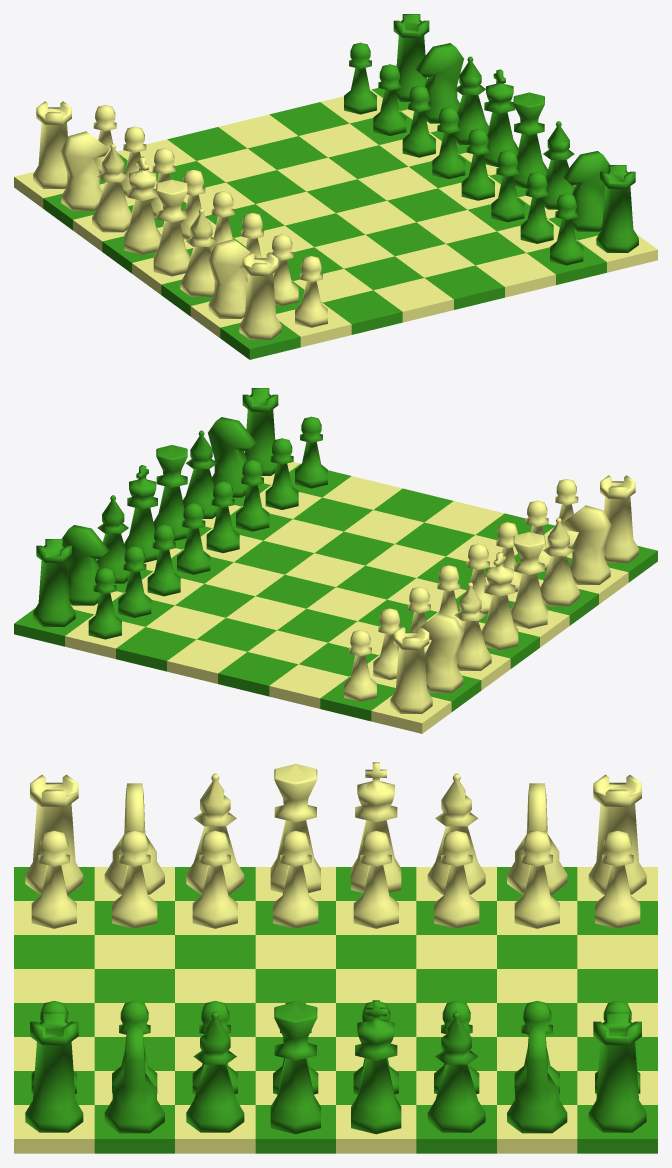
The model's file is chess.dae.
3 views of the same model, one above another, from view 1: azimuth 30°, elevation 25°; view 2: azimuth 150°, elevation 25°; view 3: azimuth 270°, elevation 25° (orthographic). The views are drawn at different scales.
Parts seen in each view (by area): view 1: w_Ra, b_Ra, b_Ng, b_Q, b_Nb, w_Nb, b_Rh, b_K, w_Ng, w_Q, b_Bf, w_Rh (+70 smaller); view 2: w_Rh, b_Rh, b_Nb, b_Q, b_Ng, w_Ng, b_Ra, b_K, w_Nb, w_Q, b_Bc, w_Ra (+70 smaller); view 3: w_Rh, w_Ra, w_Q, w_K, w_Bc, w_Bf, w_Ng, w_Nb, b_Ra, b_Rh, b_Q, b_K (+81 smaller).
Boxes of the visible parts, bbox=[...] form: w_Ra: bbox=[596, 165, 638, 252]; b_Ra: bbox=[239, 252, 281, 339]; b_Ng: bbox=[60, 131, 109, 210]; b_Q: bbox=[153, 179, 190, 276]; b_Nb: bbox=[208, 239, 256, 318]; w_Nb: bbox=[562, 151, 609, 231]; b_Rh: bbox=[33, 101, 71, 188]; b_K: bbox=[124, 156, 160, 254]; w_Ng: bbox=[415, 43, 463, 123]; w_Q: bbox=[513, 92, 547, 188]; b_Bf: bbox=[92, 143, 131, 232]; w_Rh: bbox=[393, 14, 429, 101]; w_Rh: bbox=[33, 539, 75, 626]; b_Rh: bbox=[390, 626, 432, 713]; b_Nb: bbox=[562, 505, 611, 584]; b_Q: bbox=[511, 532, 547, 628]; b_Ng: bbox=[415, 613, 463, 692]; w_Ng: bbox=[62, 525, 109, 605]; b_Ra: bbox=[600, 475, 638, 562]; b_K: bbox=[481, 552, 518, 650]; w_Nb: bbox=[208, 417, 256, 497]; w_Q: bbox=[153, 445, 188, 541]; b_Bc: bbox=[540, 517, 579, 606]; w_Ra: bbox=[242, 388, 278, 475]; w_Rh: bbox=[588, 1012, 646, 1132]; w_Ra: bbox=[25, 1012, 83, 1132]; w_Q: bbox=[270, 1002, 320, 1134]; w_K: bbox=[351, 1000, 401, 1134]; w_Bc: bbox=[186, 1012, 244, 1132]; w_Bf: bbox=[427, 1012, 485, 1132]; w_Ng: bbox=[507, 1025, 567, 1133]; w_Nb: bbox=[104, 1025, 164, 1133]; b_Ra: bbox=[25, 774, 83, 894]; b_Rh: bbox=[588, 774, 646, 894]; b_Q: bbox=[270, 763, 320, 892]; b_K: bbox=[351, 762, 401, 892].
Bounding box in the file's own units: 16 × 16 × 3.69.
